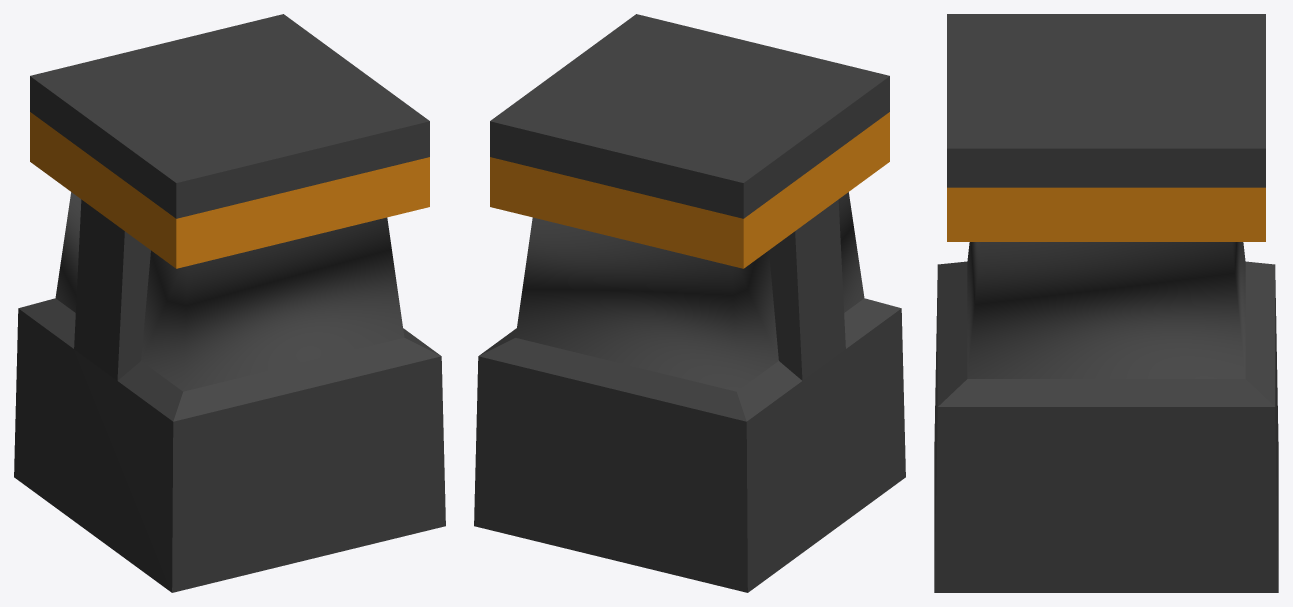
Rendered from hokuyo_utm_30lx.dae.
3 renders of one model, left to right at view 1: azimuth 30°, elevation 25°; view 2: azimuth 150°, elevation 25°; view 3: azimuth 270°, elevation 25°, orthographic. The views are drawn at different scales.
Parts seen in each view (by area): view 1: Plane; view 2: Plane; view 3: Plane.
Part boxes in pixels (<box>): Plane: <box>14,14,445,592</box>; Plane: <box>474,14,905,592</box>; Plane: <box>934,14,1278,592</box>.
Size of the model in its own units: 0.0618 by 0.0618 by 0.087.
